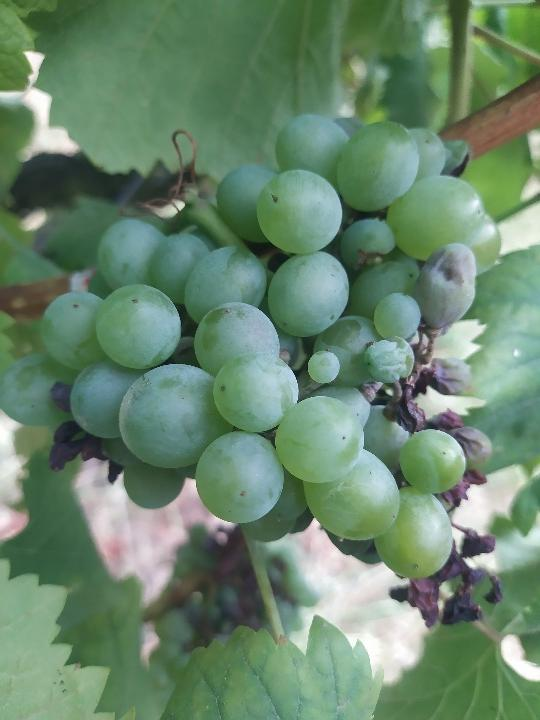grape: (0, 111, 506, 633)
